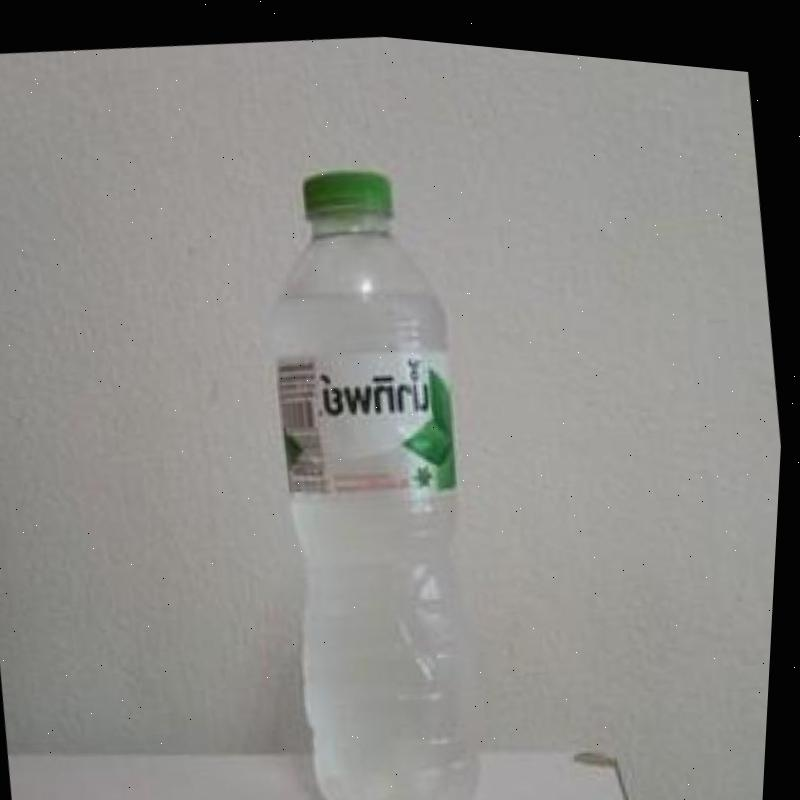botella: (225, 143, 528, 800)
